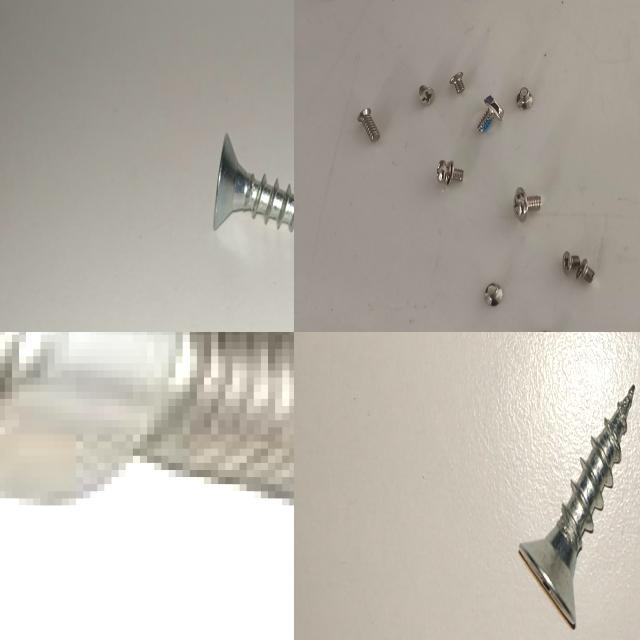Screw: (0, 332, 294, 506), (519, 384, 635, 629), (213, 133, 294, 231), (510, 182, 544, 225), (474, 92, 506, 134), (354, 106, 382, 144), (434, 156, 464, 190), (483, 279, 505, 307), (575, 256, 597, 284), (514, 85, 535, 111), (446, 70, 466, 96), (561, 249, 581, 275), (417, 81, 435, 108)
